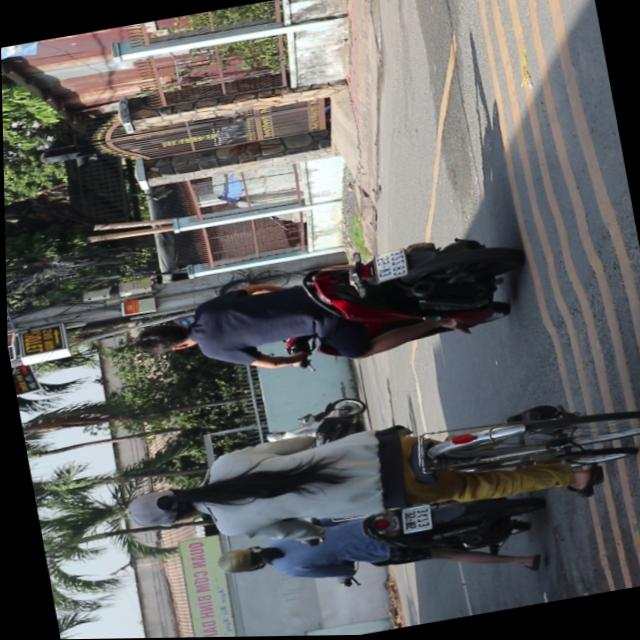helmet: (211, 541, 271, 577)
licenseplate: (118, 222, 533, 397), (205, 480, 548, 614)
motorcyclist: (119, 480, 200, 533), (130, 314, 198, 358)
nohelmet: (370, 249, 405, 281), (399, 504, 431, 533)
